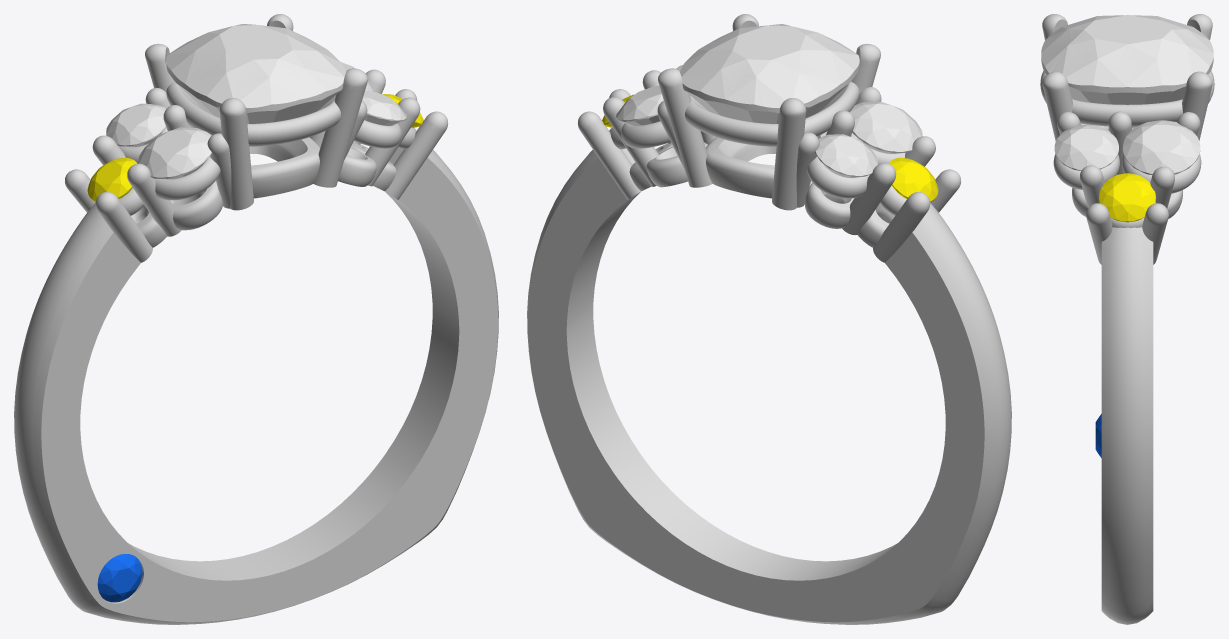
File: MarcSarahRR.glb
The picture shows the model from 3 angles, left to right: view 1: azimuth 30°, elevation 25°; view 2: azimuth 150°, elevation 25°; view 3: azimuth 270°, elevation 25°; orthographic projection. The views are drawn at different scales.
Parts seen in each view (by area): view 1: Marc and sarah PT for 3d model mesh, Marc and sarah center dia for 3d model, Marc and sarah dia for 3d model.002, Marc and sarah dia for 3d model.003, Marc and sarah yellow sapphire for 3d model, Marc and sarah yellow sapphire for 3d model.002, Marc and sarah dia for 3d model.001; view 2: Marc and sarah PT for 3d model mesh, Marc and sarah center dia for 3d model, Marc and sarah dia for 3d model.002, Marc and sarah dia for 3d model.003, Marc and sarah yellow sapphire for 3d model.002, Marc and sarah dia for 3d model; view 3: Marc and sarah PT for 3d model mesh, Marc and sarah center dia for 3d model, Marc and sarah dia for 3d model, Marc and sarah dia for 3d model.001, Marc and sarah yellow sapphire for 3d model.001.
Boxes of the visible parts, x1,y1,x2,y2 form: Marc and sarah PT for 3d model mesh: [14, 14, 498, 624]; Marc and sarah center dia for 3d model: [166, 24, 345, 123]; Marc and sarah dia for 3d model.002: [138, 127, 211, 179]; Marc and sarah dia for 3d model.003: [106, 103, 165, 147]; Marc and sarah yellow sapphire for 3d model: [97, 554, 142, 602]; Marc and sarah yellow sapphire for 3d model.002: [87, 157, 136, 201]; Marc and sarah dia for 3d model.001: [362, 90, 406, 125]; Marc and sarah PT for 3d model mesh: [527, 14, 1011, 624]; Marc and sarah center dia for 3d model: [680, 24, 859, 123]; Marc and sarah dia for 3d model.002: [850, 101, 922, 153]; Marc and sarah dia for 3d model.003: [815, 134, 877, 177]; Marc and sarah yellow sapphire for 3d model.002: [888, 157, 938, 201]; Marc and sarah dia for 3d model: [616, 85, 663, 125]; Marc and sarah PT for 3d model mesh: [1040, 14, 1214, 624]; Marc and sarah center dia for 3d model: [1041, 15, 1213, 127]; Marc and sarah dia for 3d model: [1123, 120, 1200, 174]; Marc and sarah dia for 3d model.001: [1054, 124, 1118, 170]; Marc and sarah yellow sapphire for 3d model.001: [1099, 173, 1155, 222].
Bounding box in the file's own units: 20.69 × 23.67 × 6.75.
